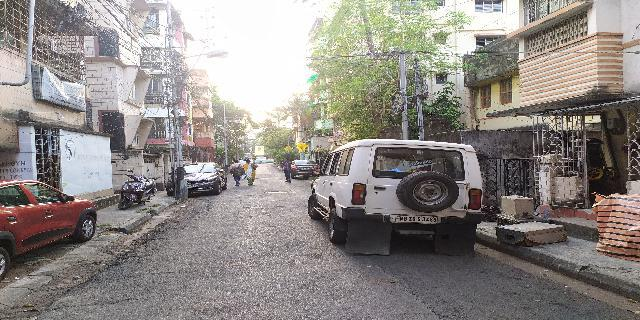Car: (303, 137, 487, 258), (1, 177, 96, 267), (170, 158, 229, 198)
Motorbike: (116, 168, 156, 209)
